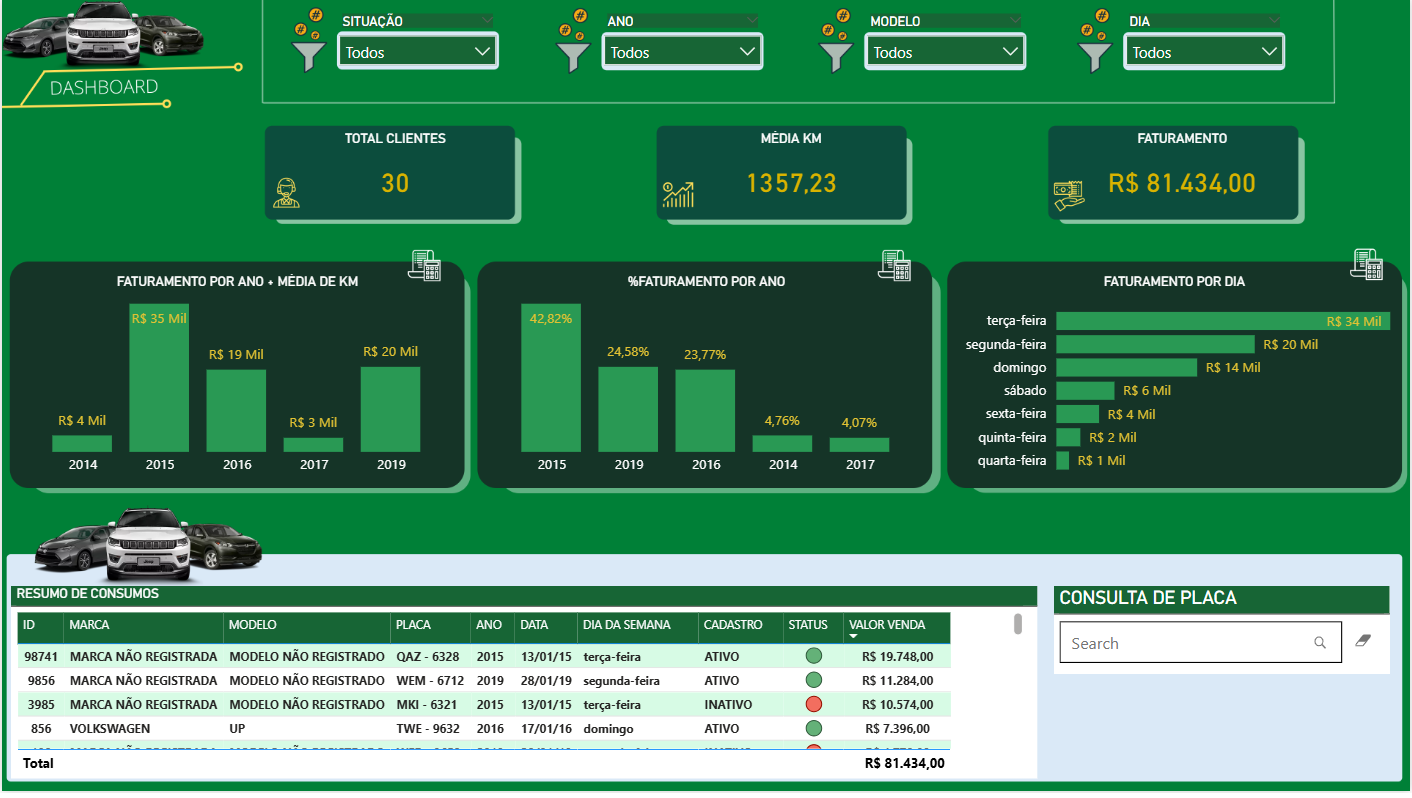

What the dashboard file says about the page in this screenshot:
{"tool":"powerbi","page":{"name":"LOCAÇÃO DE VEÍCULOS","canvas":[1280,720],"ordinal":1},"visuals":[{"type":"columnChart","title":"FATURAMENTO POR ANO + MÉDIA DE KM","fields":{"Y":["tb_km.FAT MEDIDA"],"Category":["tb_km.DATA.Variation.Hierarquia de datas.Ano","tb_km.DATA.Variation.Hierarquia de datas.Trimestre","tb_km.DATA.Variation.Hierarquia de datas.Mês","tb_km.DATA.Variation.Hierarquia de datas.Dia"]},"box":[13,249.8,402.5,191.7],"z":0},{"type":"columnChart","title":"%FATURAMENTO POR ANO","fields":{"Category":["tb_km.DATA.Variation.Hierarquia de datas.Ano","tb_km.DATA.Variation.Hierarquia de datas.Mês"],"Y":["tb_km.FAT MEDIDA"]},"box":[438.9,249.8,402.5,191.7],"z":1000},{"type":"barChart","title":"FATURAMENTO POR DIA","fields":{"Category":["tb_km.Nome do Dia"],"Y":["tb_km.FAT MEDIDA"]},"box":[864.9,249.8,402.5,191.7],"z":2000},{"type":"slicer","fields":{"Values":["tb_km.SITUAÇÃO CADASTRAL"]},"box":[296.7,7.8,163,54.7],"z":3000},{"type":"slicer","fields":{"Values":["tb_km.Ano.1"]},"box":[537,7.8,163,54.7],"z":4000},{"type":"slicer","fields":{"Values":["tb_km.MODELO"]},"box":[776.4,7.8,163,54.7],"z":5000},{"type":"slicer","fields":{"Values":["tb_km.Nome do Dia"]},"box":[1011.5,7.8,163.1,54.7],"z":6000},{"type":"card","title":"TOTAL CLIENTES","fields":{"Values":["tb_km.TOTAL DE CLIENTES"]},"box":[276.7,119.7,162.2,79.8],"z":7000},{"type":"card","title":"MÉDIA KM","fields":{"Values":["tb_km.MEDIA KM"]},"box":[636.7,119.7,162.2,79.8],"z":8000},{"type":"card","title":"FATURAMENTO","fields":{"Values":["tb_km.FAT MEDIDA"]},"box":[991.5,119.7,162.2,79.8],"z":9000},{"type":"tableEx","title":"RESUMO DE CONSUMOS","fields":{"Values":["tb_km.ID_CLIENTE","tb_km.MARCA","tb_km.MODELO","tb_km.PLACA","tb_km.ANO","tb_km.DATA","tb_km.Nome do Dia","tb_km.SITUAÇÃO CADASTRAL","tb_km.ICONE","tb_km.FAT MEDIDA"]},"box":[8,533.5,932.5,175.2],"z":10000},{"type":"textFilter25A4896A83E0487089E2B90C9AE57C8A","title":"CONSULTA DE PLACA","fields":{"field":["tb_km.MARCA"]},"box":[956,533.5,305.3,79.8],"z":11000}]}

Visuals, with their boxes in screenshot pixels (x1, y1, x2, y2), scaled from the page's 1280x720 canvas onto the 1412x798 screenshot:
"FATURAMENTO POR ANO + MÉDIA DE KM" columnChart: bbox=(14, 277, 458, 489)
"%FATURAMENTO POR ANO" columnChart: bbox=(484, 277, 928, 489)
"FATURAMENTO POR DIA" barChart: bbox=(954, 277, 1398, 489)
slicer - tb_km.SITUAÇÃO CADASTRAL: bbox=(327, 9, 507, 69)
slicer - tb_km.Ano.1: bbox=(592, 9, 772, 69)
slicer - tb_km.MODELO: bbox=(856, 9, 1036, 69)
slicer - tb_km.Nome do Dia: bbox=(1116, 9, 1296, 69)
"TOTAL CLIENTES" card: bbox=(305, 133, 484, 221)
"MÉDIA KM" card: bbox=(702, 133, 881, 221)
"FATURAMENTO" card: bbox=(1094, 133, 1273, 221)
"RESUMO DE CONSUMOS" tableEx: bbox=(9, 591, 1037, 785)
"CONSULTA DE PLACA" textFilter25A4896A83E0487089E2B90C9AE57C8A: bbox=(1055, 591, 1391, 680)
